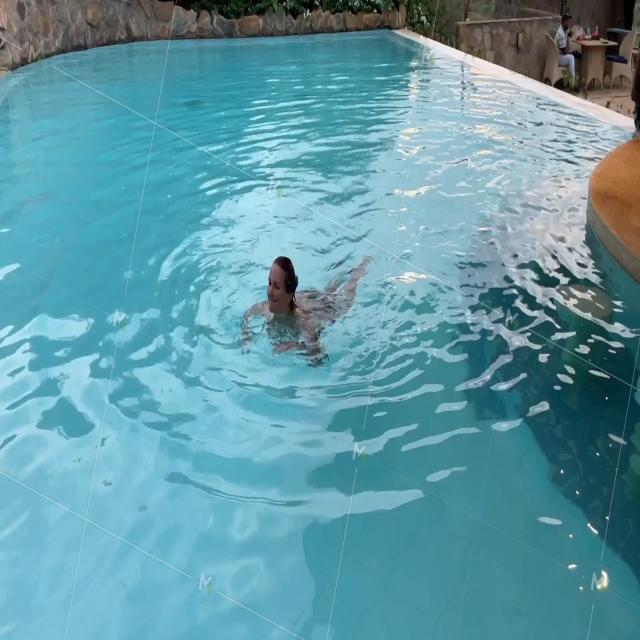swimming: (239, 223, 384, 385)
